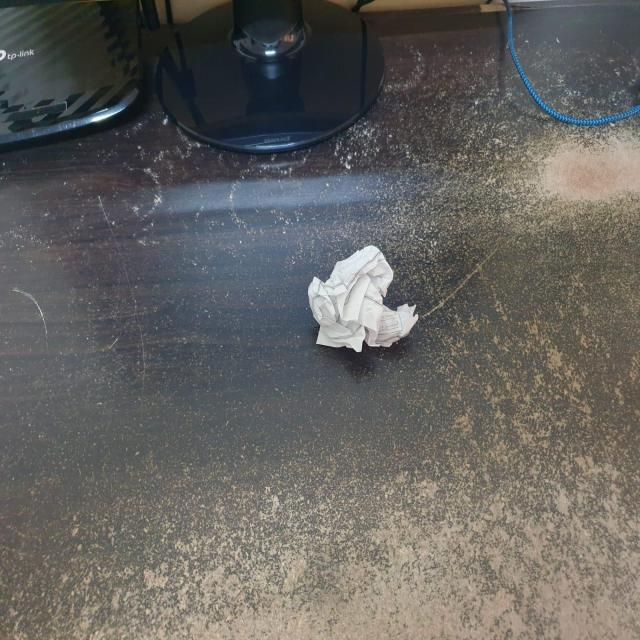cardboard paper: (307, 245, 416, 350)
